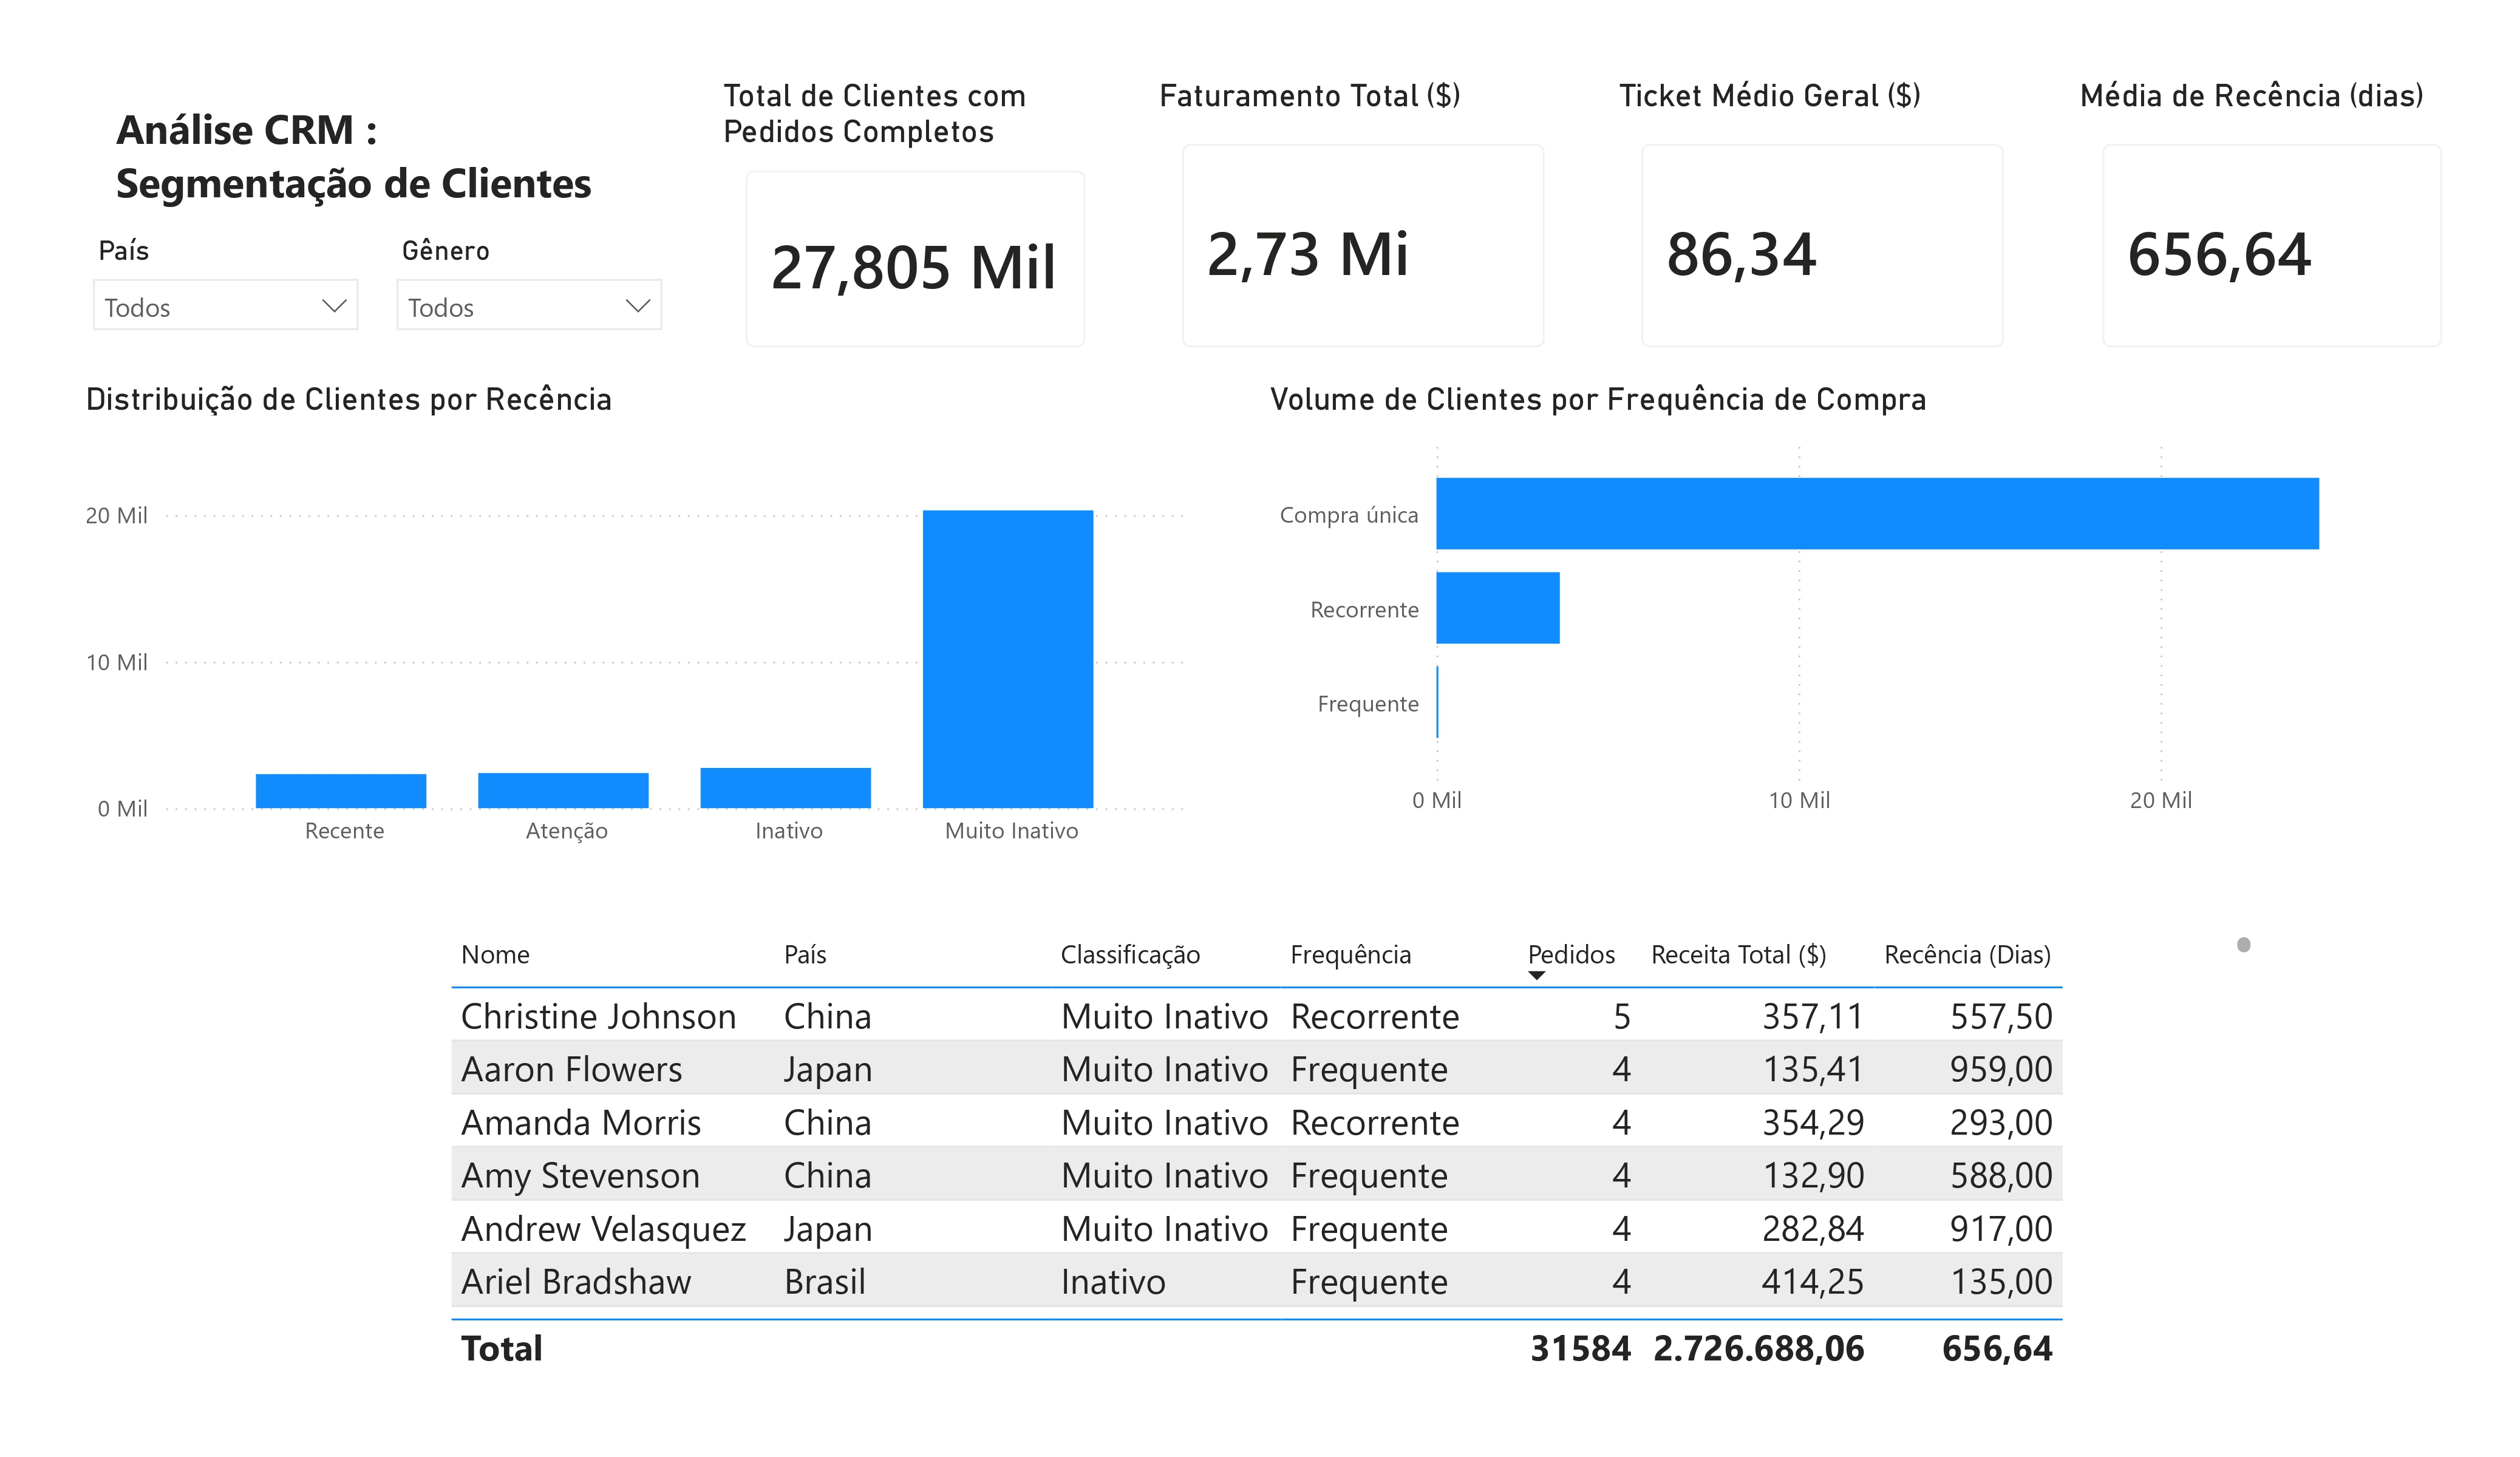

This screenshot's page, from the dashboard's own definition file:
{"tool":"powerbi","page":{"name":"Página 1","canvas":[1280,720],"ordinal":0},"visuals":[{"type":"cardVisual","title":"Total de Clientes com Pedidos Completos","fields":{"Data":["Count(Consulta1.user_id)"]},"box":[352,16,213.2,160],"z":0,"group":"g1"},{"type":"tableEx","fields":{"Values":["Consulta1.name","Consulta1.country","Consulta1.classificacao","Consulta1.frequencia","Sum(Consulta1.qtd_pedidos)","Sum(Consulta1.receita)","Avg(Consulta1.recencia)"]},"box":[208,464,960,240],"z":0},{"type":"group","id":"g1","title":"Grupo 1","box":[352,16,928,160],"z":1000},{"type":"cardVisual","title":"Faturamento Total ($)","fields":{"Data":["Sum(Consulta1.receita)"]},"box":[581.9,16,225.7,160],"z":1000,"group":"g1"},{"type":"cardVisual","title":"Ticket Médio Geral ($)","fields":{"Data":["Avg(Consulta1.ticket_medio)"]},"box":[824.4,16,225.7,160],"z":2000,"group":"g1"},{"type":"group","id":"g2","title":"Grupo 2","box":[16,176,592,256],"z":2000},{"type":"cardVisual","title":"Média de Recência (dias)","fields":{"Data":["Avg(Consulta1.recencia)"]},"box":[1066.8,16,213.2,160],"z":3000,"group":"g1"},{"type":"clusteredBarChart","title":"Volume de Clientes por Frequência de Compra","fields":{"Category":["Consulta1.frequencia"],"Y":["CountNonNull(Consulta1.classificacao)"]},"box":[640,176,592,240],"z":3000},{"type":"textbox","box":[32,24,312,104],"z":4000},{"type":"clusteredColumnChart","title":"Distribuição de Clientes por Recência","fields":{"Category":["Consulta1.classificacao"],"Y":["Count(Consulta1.user_id)"]},"box":[16,176,592,256],"z":4000,"group":"g2"},{"type":"slicer","fields":{"Values":["Consulta1.country"]},"box":[15,95,160,64],"z":4001},{"type":"slicer","fields":{"Values":["Consulta1.gender"]},"box":[175,95,160,64],"z":4002}]}

Visuals, with their boxes on the page's 1280x720 design canvas (x1, y1, x2, y2). These are canvas units, not pixel positions in the 2520x1457 screenshot, which may show the page scaled, cropped or inside an application window:
"Total de Clientes com Pedidos Completos" cardVisual: Rect(352, 16, 565, 176)
tableEx - Consulta1.name x Consulta1.country: Rect(208, 464, 1168, 704)
"Grupo 1" group: Rect(352, 16, 1280, 176)
"Faturamento Total ($)" cardVisual: Rect(582, 16, 808, 176)
"Ticket Médio Geral ($)" cardVisual: Rect(824, 16, 1050, 176)
"Grupo 2" group: Rect(16, 176, 608, 432)
"Média de Recência (dias)" cardVisual: Rect(1067, 16, 1280, 176)
"Volume de Clientes por Frequência de Compra" clusteredBarChart: Rect(640, 176, 1232, 416)
textbox: Rect(32, 24, 344, 128)
"Distribuição de Clientes por Recência" clusteredColumnChart: Rect(16, 176, 608, 432)
slicer - Consulta1.country: Rect(15, 95, 175, 159)
slicer - Consulta1.gender: Rect(175, 95, 335, 159)
